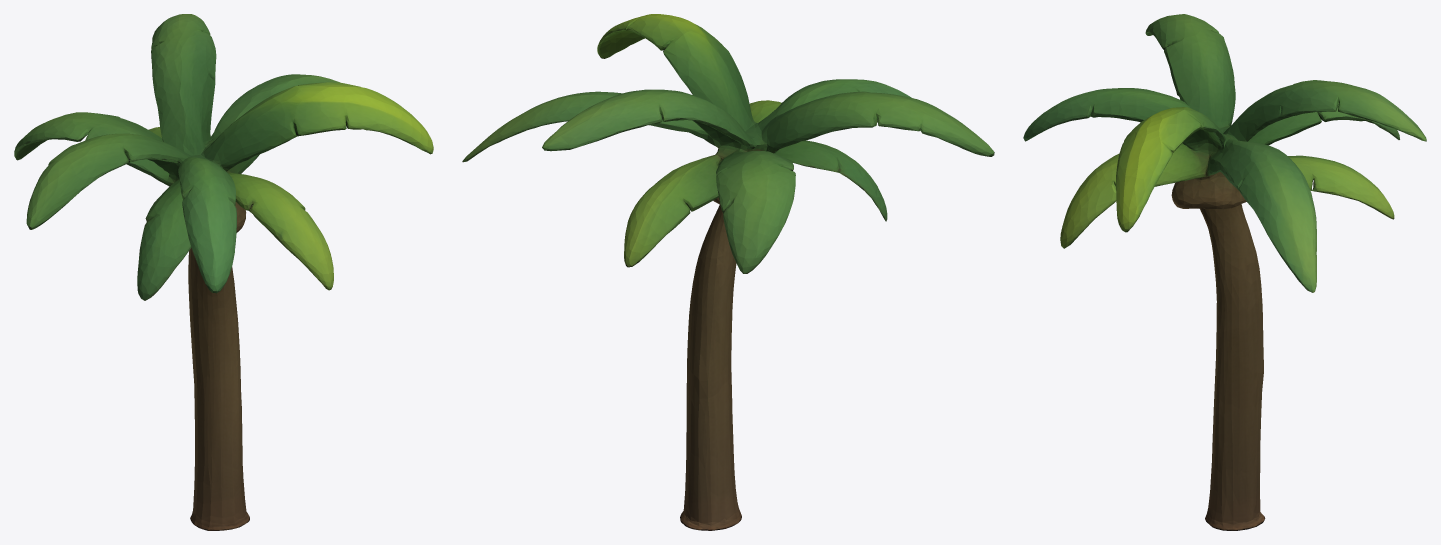
File: palm-tree-1.glb
3 views of the same model, side by side, from view 1: azimuth 30°, elevation 25°; view 2: azimuth 150°, elevation 25°; view 3: azimuth 270°, elevation 25° (orthographic). The views are drawn at different scales.
Visible parts, largest first — view 1: world; view 2: world; view 3: world.
Part boxes in pixels (left/top/right/bottom): world: left=14, top=14, right=433, bottom=530; world: left=462, top=14, right=994, bottom=530; world: left=1023, top=14, right=1426, bottom=530.
Size of the model in its own units: 0.9725 by 0.9515 by 0.7919.
1 material, 1 textured.
